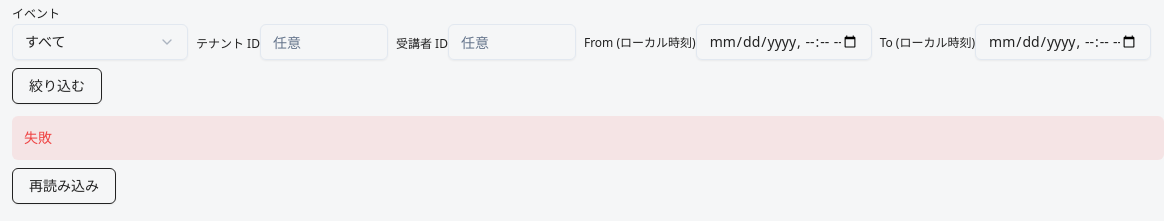
Test case: AuditLogTable › 再読み込みボタンで activeFilter (最後に適用したもの) で再取得
The width and height of the screenshot is (1164, 221).
Check: the text "失敗" is shown, box [12,116,1163,160]
Click the button "再読み込み": click(64, 186) [12,168,116,204]
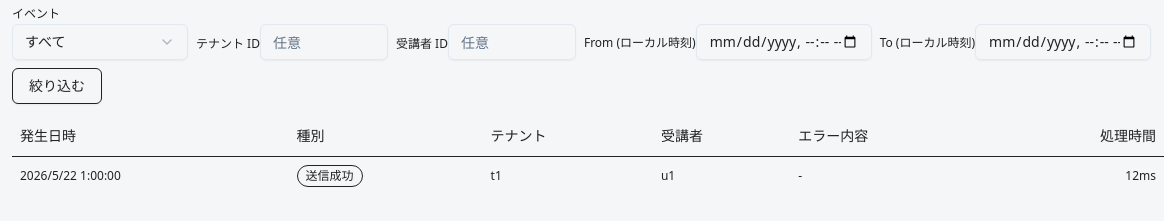
Check: the text "送信成功" is shown, box [296,164,362,186]
